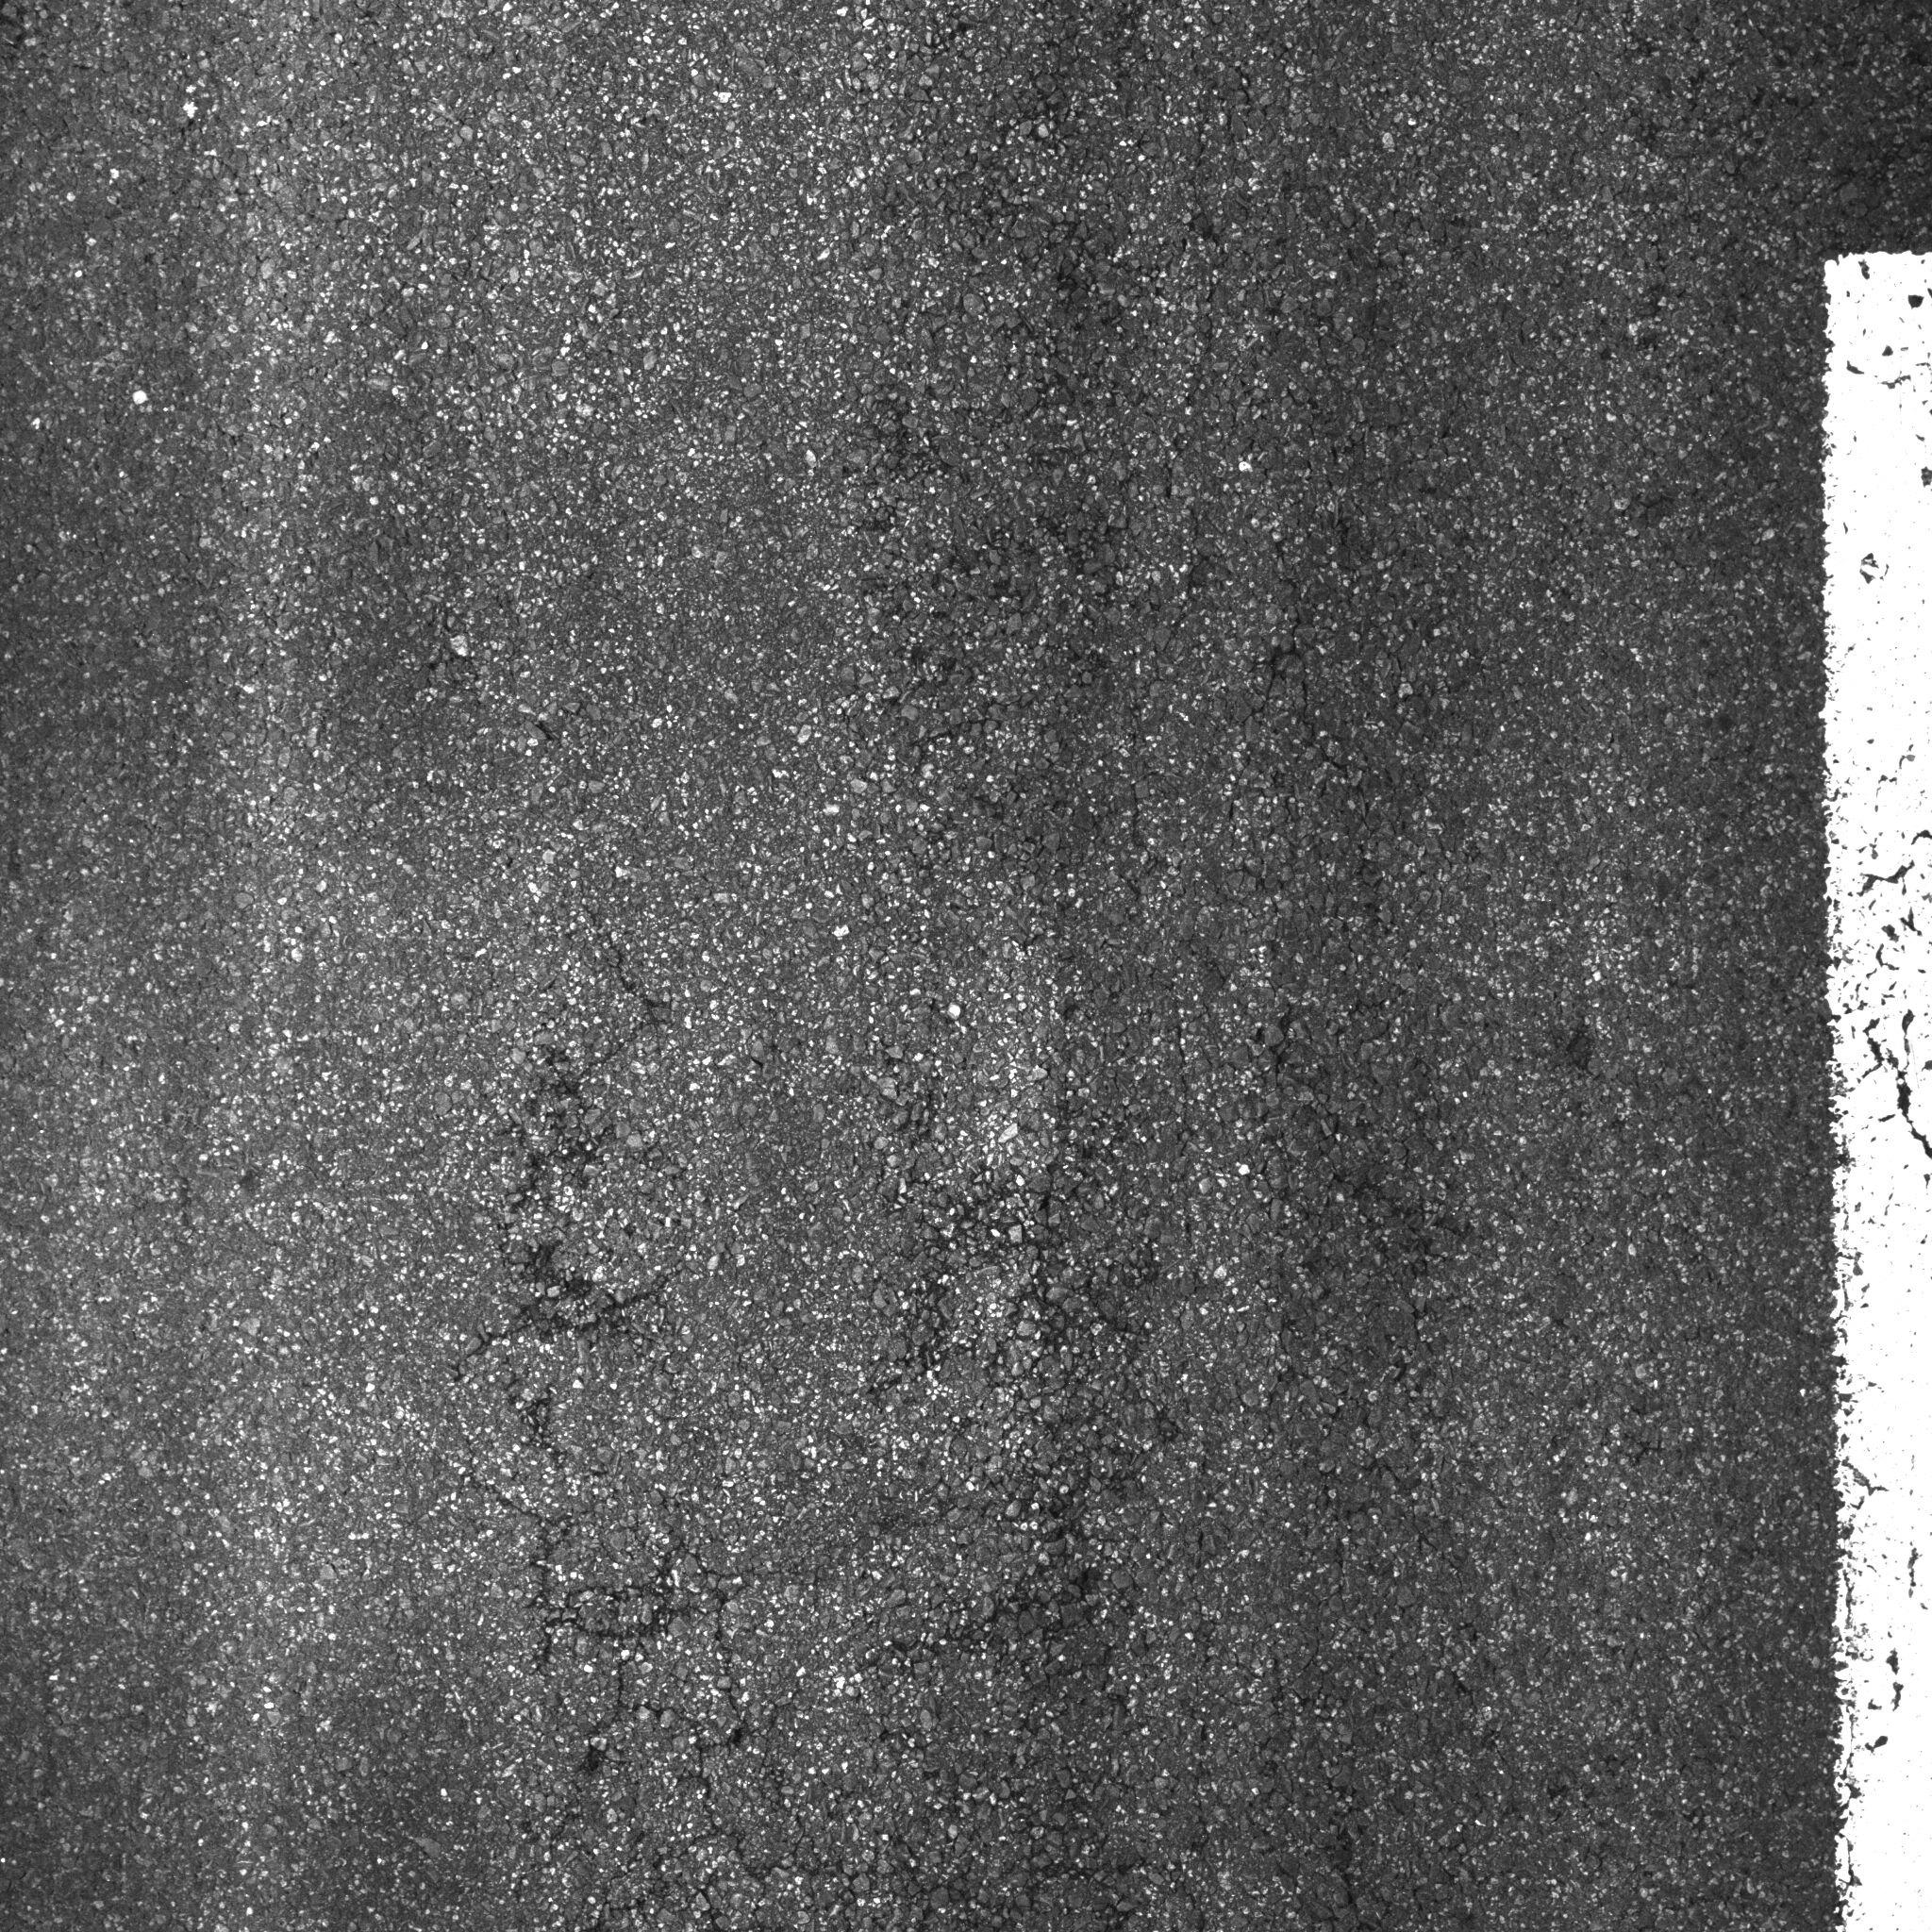alligator: (334, 908, 1504, 1905)
